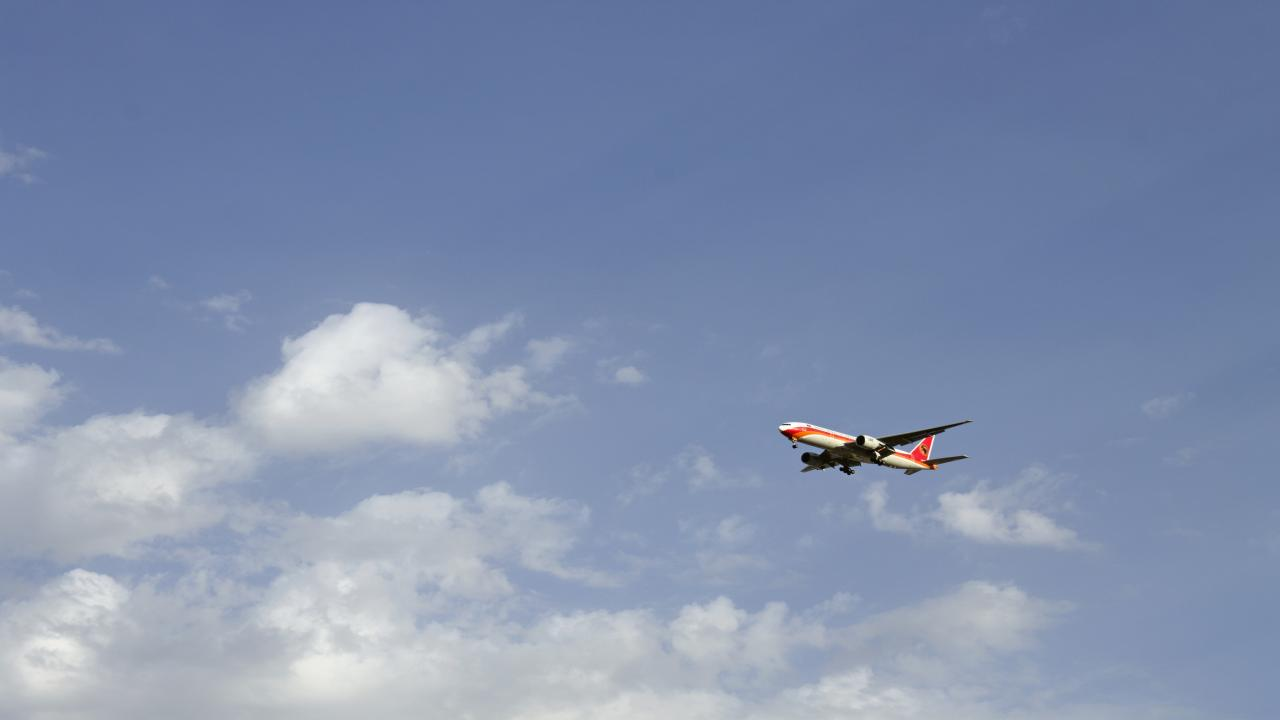Airplane: (762, 408, 985, 490)
